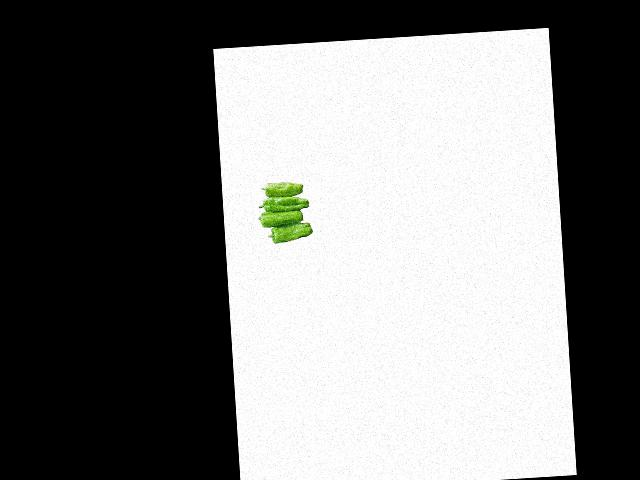bell_pepper: (265, 221, 317, 244)
